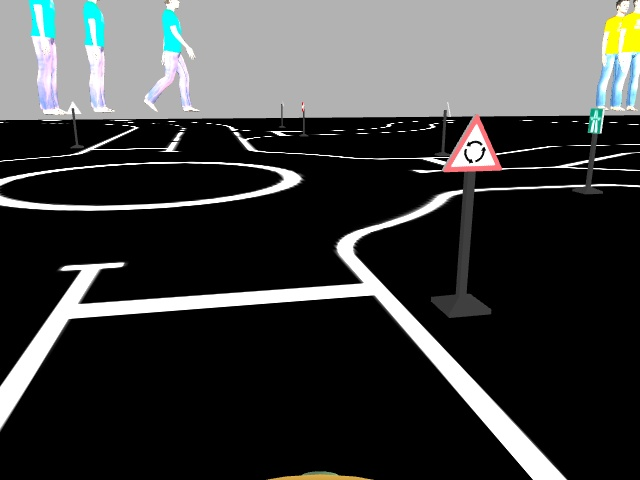Roundabout: (441, 112, 504, 176)
